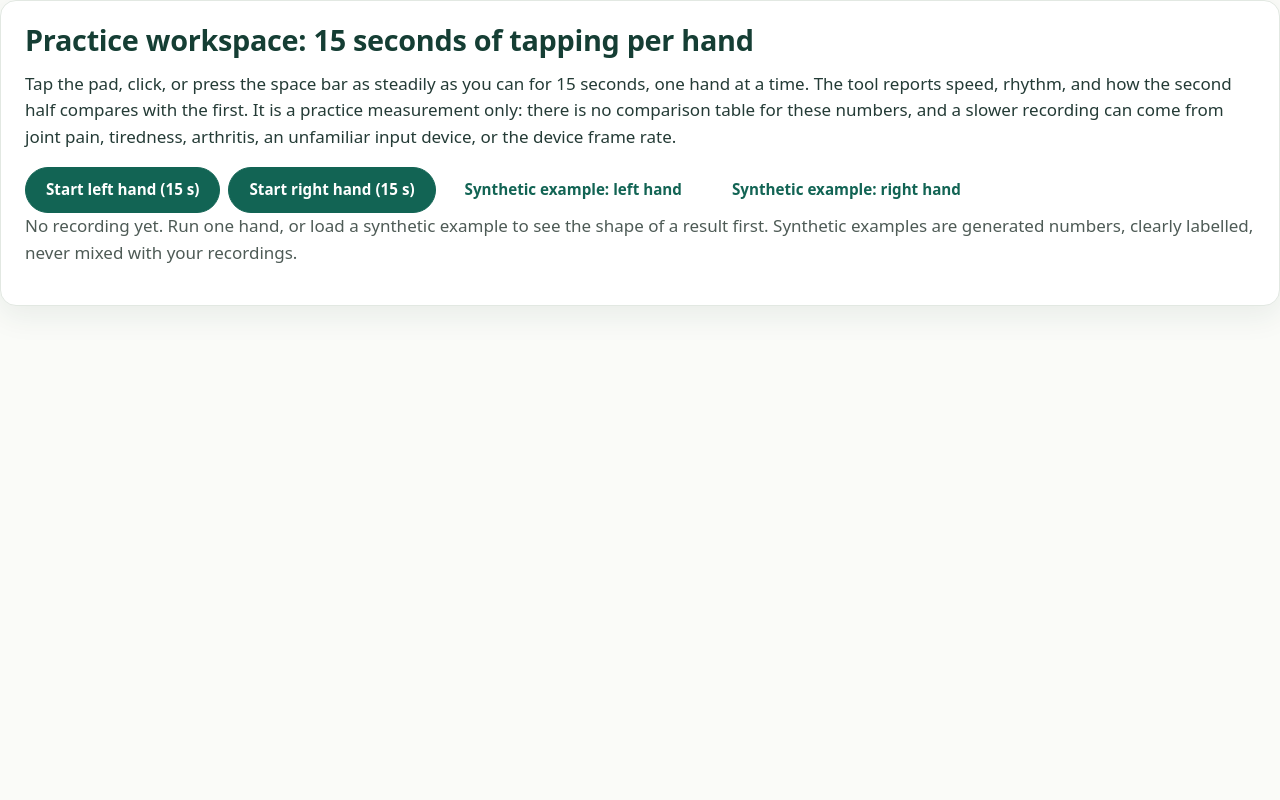
Test: FingerTappingLab › loads a synthetic example and reports tapping metrics
Click the button "Synthetic example: right hand" at (846, 190), box [711,167,982,213]
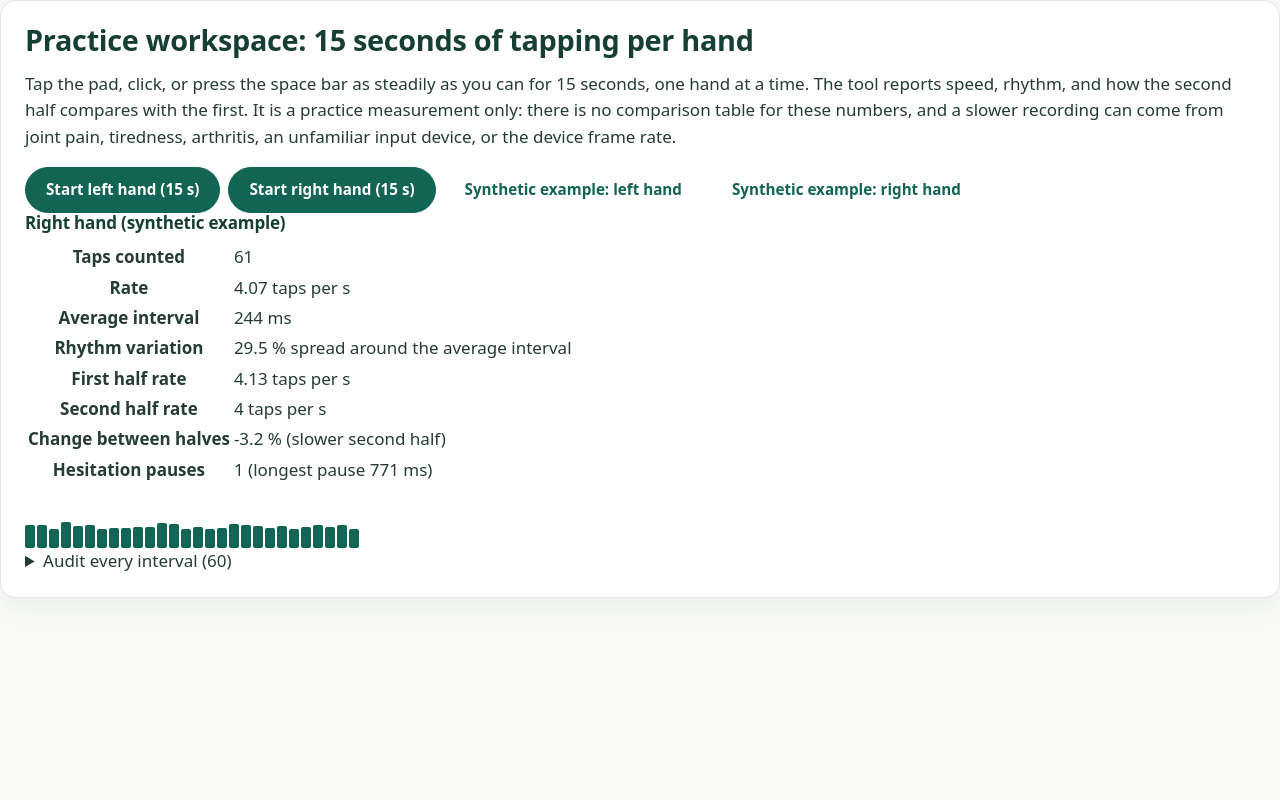
Expected: the heading "Right hand (synthetic example)" is shown, [25,211,286,234]
Expected: the column heading "Taps counted" is shown, [27,243,231,272]
Expected: the column heading "Rhythm variation" is shown, [27,334,231,363]
